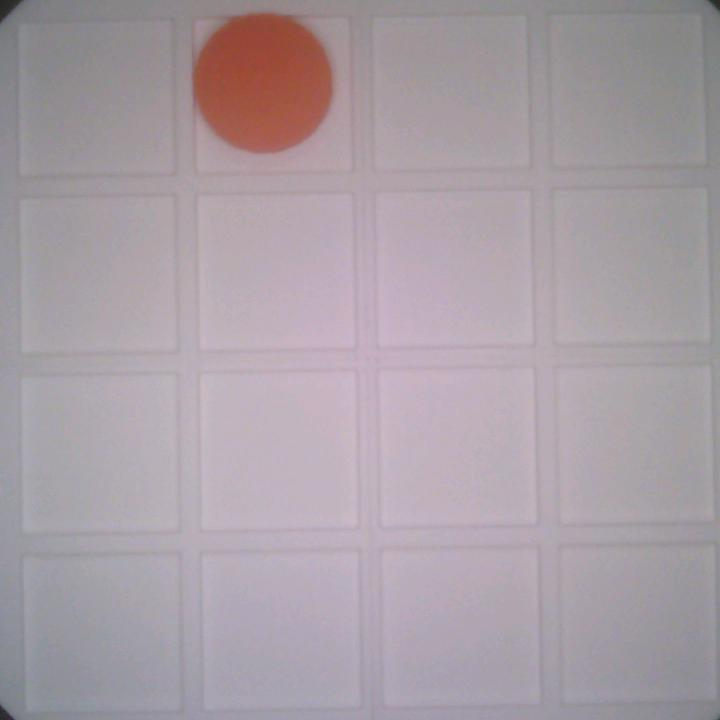Orange circle: (190, 12, 334, 155)
